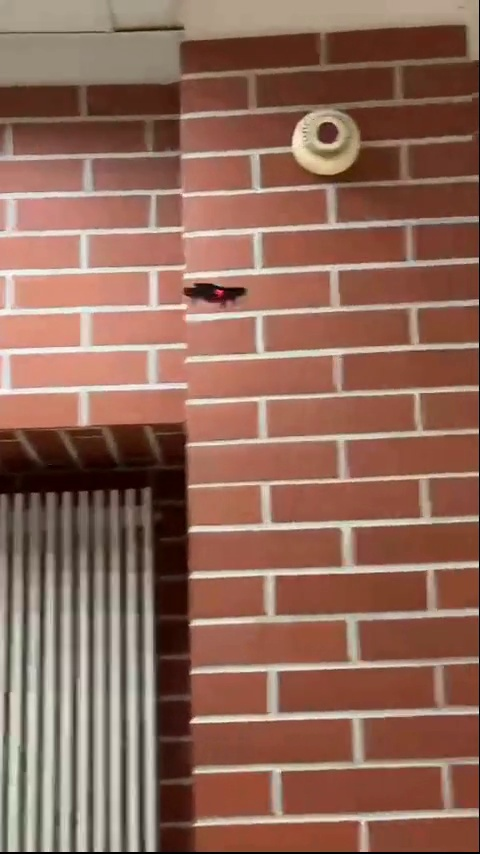drone: (184, 275, 248, 307)
